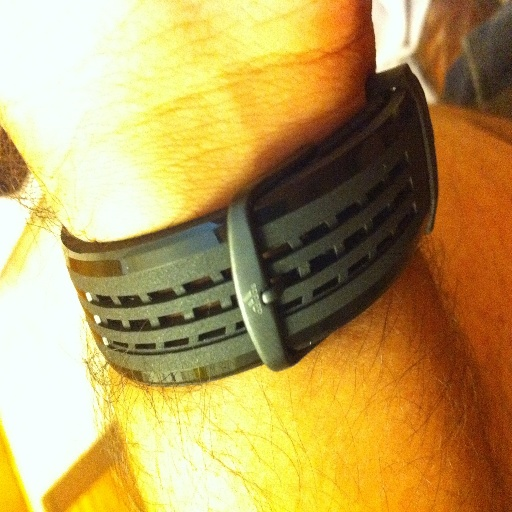hand: (0, 0, 378, 220)
